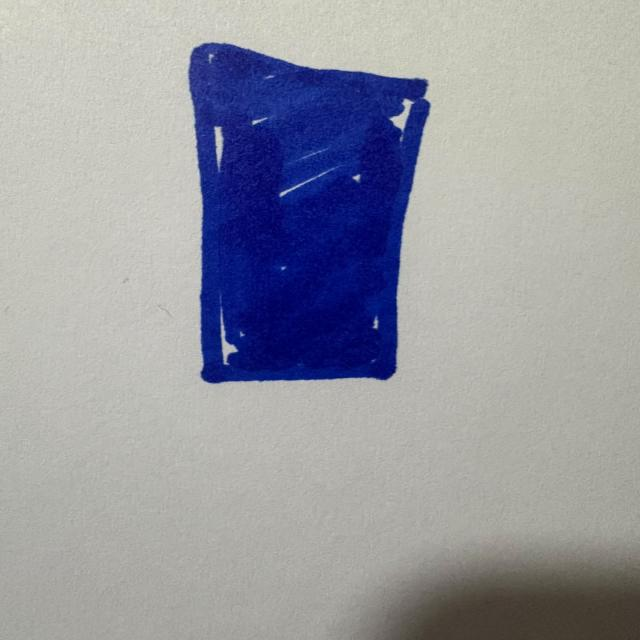Rectangle: (182, 38, 438, 386)
